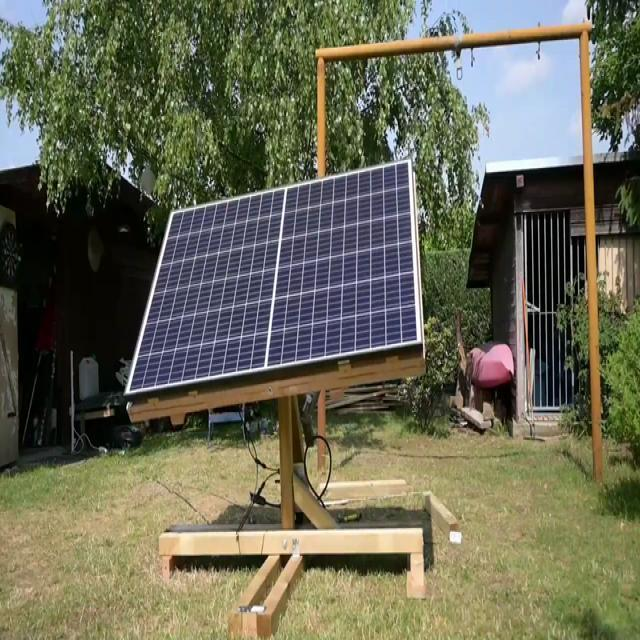Normal Solar Panel: (126, 162, 422, 395)
